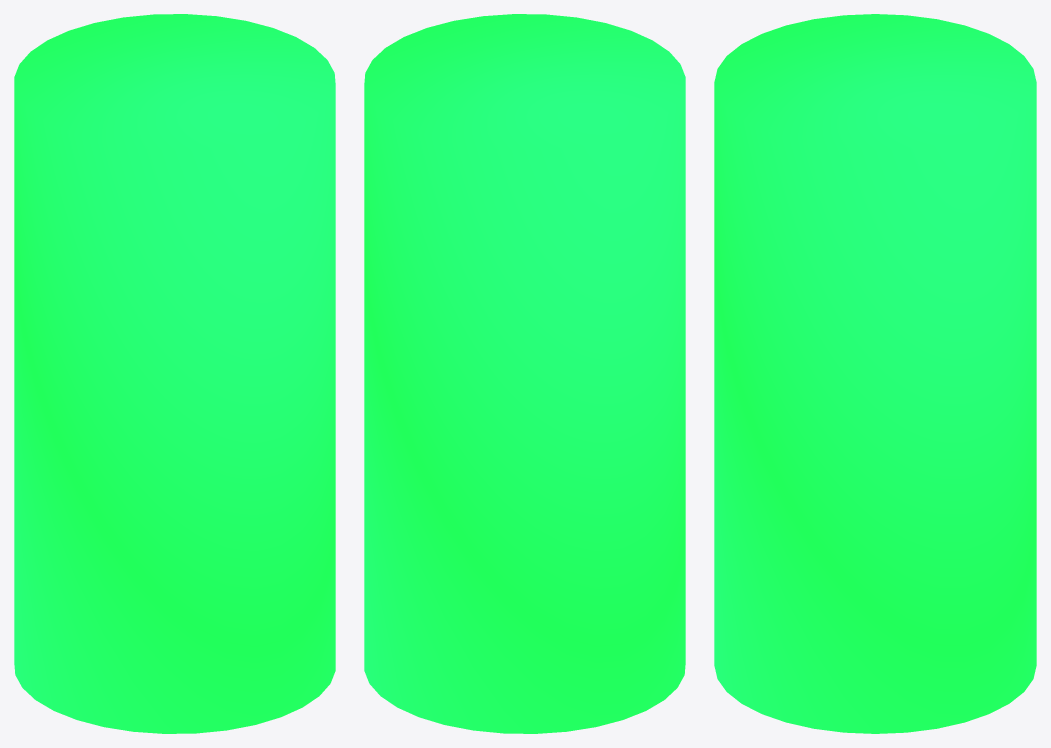
The model's file is CursorCylinder_centeredorigin.fbx.
The picture shows the model from 3 angles, left to right: view 1: azimuth 30°, elevation 25°; view 2: azimuth 150°, elevation 25°; view 3: azimuth 270°, elevation 25°; orthographic projection.
Parts seen in each view (by area): view 1: Cylinder; view 2: Cylinder; view 3: Cylinder.
Boxes of the visible parts, x1,y1,x2,y2 form: Cylinder: (14, 14, 335, 733); Cylinder: (364, 14, 685, 733); Cylinder: (714, 14, 1036, 733).
Size of the model in its own units: 20 by 20 by 40.
